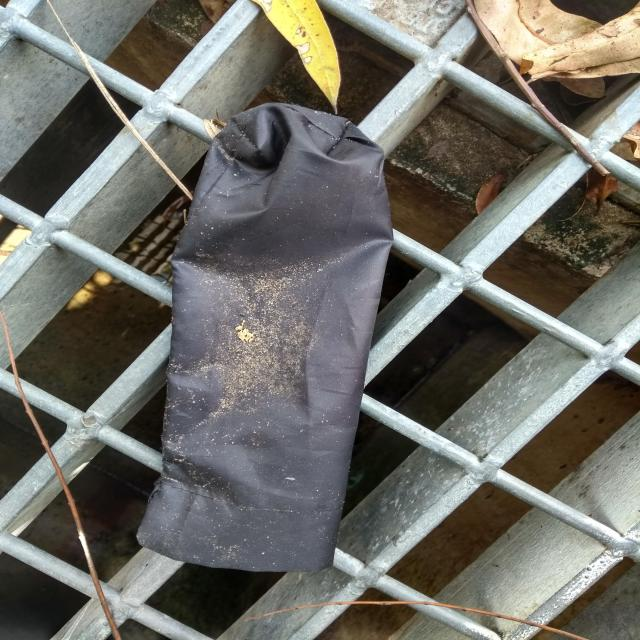litter: (135, 102, 392, 568)
